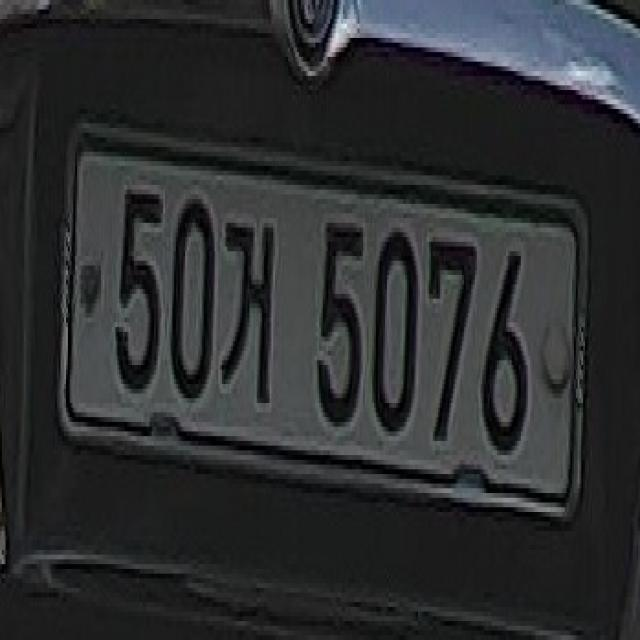0: (373, 224, 423, 446), (172, 186, 215, 414)
5: (108, 178, 167, 412), (316, 210, 370, 446)
6: (479, 236, 532, 472)
7: (427, 225, 477, 460)
geo: (218, 204, 284, 419)
license_plate: (62, 146, 586, 514)
